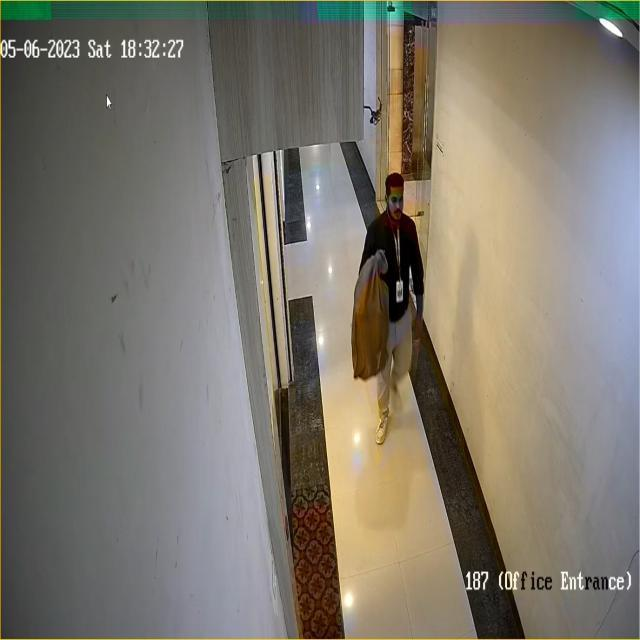gunny_bag: (349, 246, 392, 391)
